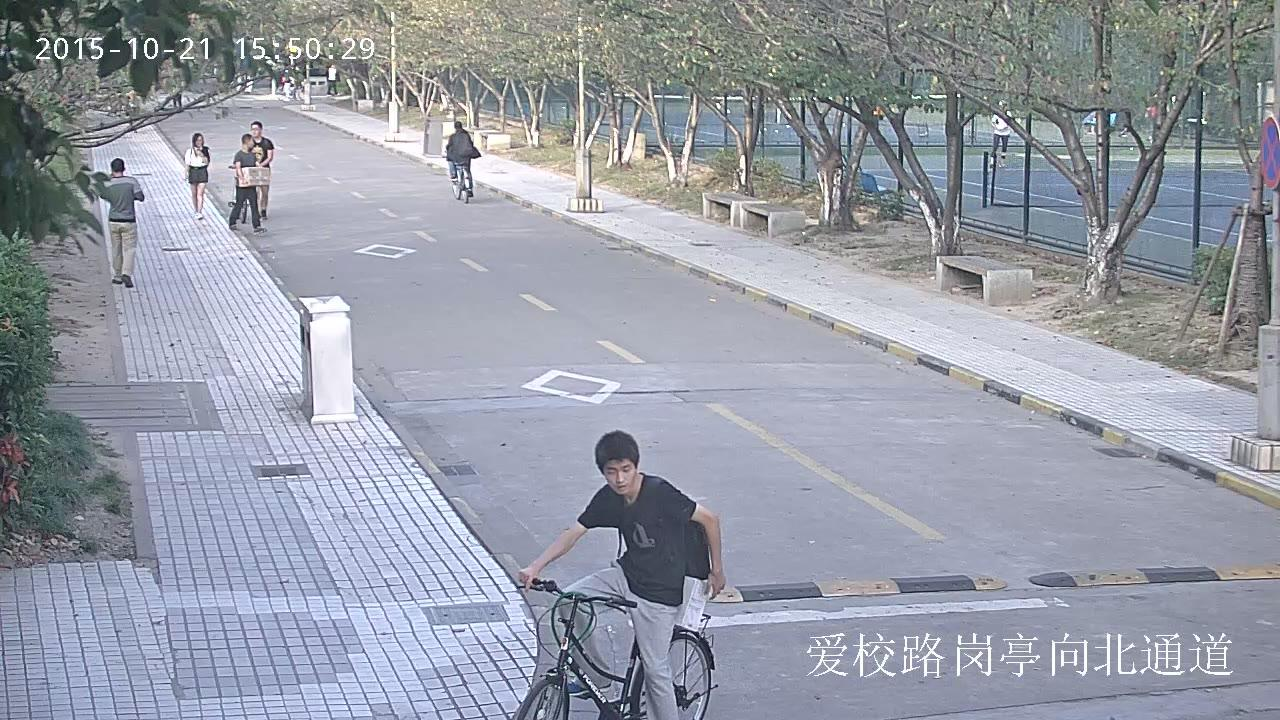person: (506, 430, 726, 720), (519, 430, 725, 720), (99, 157, 144, 287), (228, 121, 274, 220), (229, 133, 267, 235), (229, 134, 266, 235), (446, 121, 480, 203), (249, 121, 274, 219), (446, 122, 479, 196), (184, 132, 209, 220), (990, 100, 1011, 167), (326, 63, 337, 94)
